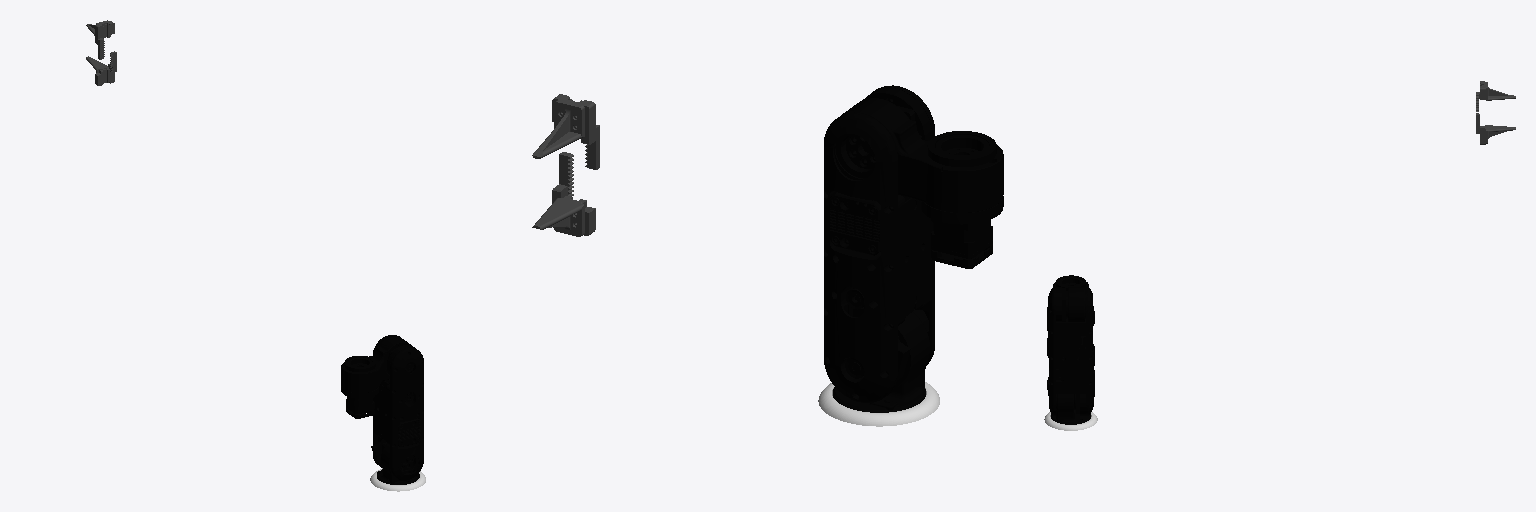
robot.urdf — DummyRobot_URDF:
<?xml version="1.0" encoding="utf-8"?>
<!-- This URDF was automatically created by SolidWorks to URDF Exporter! Originally created by Stephen Brawner (brawner@gmail.com) 
     Commit Version: 1.6.0-4-g7f85cfe  Build Version: 1.6.7995.38578
     For more information, please see http://wiki.ros.org/sw_urdf_exporter -->
<robot
  name="DummyRobot_URDF">
  <link
    name="base_rail">
    <inertial>
      <origin
        xyz="0.000954394507431187 0.0883259974982675 0.017353072875547"
        rpy="0 0 0" />
      <mass
        value="9.27513247711793" />
      <inertia
        ixx="0.532473402098459"
        ixy="2.65792617577544E-05"
        ixz="1.73766355284922E-05"
        iyy="0.222153120187208"
        iyz="-8.48208120946669E-05"
        izz="0.753386105704525" />
    </inertial>
    <visual>
      <origin
        xyz="0 0 0"
        rpy="0 0 0" />
      <geometry>
        <mesh
          filename="package://DummyRobot_URDF/meshes/base_rail.STL" />
      </geometry>
      <material
        name="">
        <color
          rgba="0.309803921568627 0.309803921568627 0.309803921568627 1" />
      </material>
    </visual>
    <collision>
      <origin
        xyz="0 0 0"
        rpy="0 0 0" />
      <geometry>
        <mesh
          filename="package://DummyRobot_URDF/meshes/base_rail.STL" />
      </geometry>
    </collision>
  </link>
  <link name="base_rail_control">
    <visual>
      <origin xyz="0 0 0" rpy="0 0 0" />
      <geometry>
        <mesh filename="package://DummyRobot_URDF/meshes/base_rail_control.stl" />
      </geometry>
      <material name="base_rail_control_black">
        <color rgba="0.035 0.035 0.035 1" />
      </material>
    </visual>
    <collision>
      <origin xyz="0 0 0" rpy="0 0 0" />
      <geometry>
        <mesh filename="package://DummyRobot_URDF/meshes/base_rail_control.stl" />
      </geometry>
    </collision>
  </link>
  <joint name="base_rail_control_fixed" type="fixed">
    <origin xyz="0 0 0" rpy="0 0 0" />
    <parent link="base_rail" />
    <child link="base_rail_control" />
  </joint>
  <link
    name="base_link">
    <inertial>
      <origin
        xyz="0.000708235447330798 -2.24602712531424E-05 0.117713749195766"
        rpy="0 0 0" />
      <mass
        value="0.65459824877057" />
      <inertia
        ixx="0.000759472268353183"
        ixy="1.10425148416772E-07"
        ixz="5.64335341466214E-06"
        iyy="0.000862319359012217"
        iyz="-1.58352135519818E-07"
        izz="0.00124453066123206" />
    </inertial>
    <visual>
      <origin
        xyz="0 0 0"
        rpy="0 0 0" />
      <geometry>
        <mesh
          filename="package://DummyRobot_URDF/meshes/base_link.STL" />
      </geometry>
      <material
        name="">
        <color
          rgba="0.035 0.035 0.035 1" />
      </material>
    </visual>
    <visual name="rgb_diffuser">
      <origin xyz="0 0 0" rpy="0 0 0" />
      <geometry>
        <mesh filename="package://DummyRobot_URDF/meshes/light.stl" />
      </geometry>
      <material name="rgb_diffuser">
        <color rgba="0.85 0.85 0.85 1" />
      </material>
    </visual>
    <collision>
      <origin
        xyz="0 0 0"
        rpy="0 0 0" />
      <geometry>
        <mesh
          filename="package://DummyRobot_URDF/meshes/base_link.STL" />
      </geometry>
    </collision>
  </link>
  <joint
    name="rail"
    type="prismatic">
    <origin
      xyz="0 0 0"
      rpy="0 0 0" />
    <parent
      link="base_rail" />
    <child
      link="base_link" />
    <axis
      xyz="0 1 0" />
    <limit
      lower="-0.25"
      upper="0.25"
      effort="1"
      velocity="0.15" />
  </joint>
  <link
    name="Link1">
    <inertial>
      <origin
        xyz="-4.52970087441886E-05 -0.00697327217228019 0.206536027444802"
        rpy="0 0 0" />
      <mass
        value="0.0946687102122455" />
      <inertia
        ixx="4.70639582676801E-05"
        ixy="1.49739688110612E-07"
        ixz="-1.30476173125909E-07"
        iyy="5.68599465780417E-05"
        iyz="6.02210124272629E-06"
        izz="4.47170577317032E-05" />
    </inertial>
    <visual>
      <origin
        xyz="0 0 0"
        rpy="0 0 0" />
      <geometry>
        <mesh
          filename="package://DummyRobot_URDF/meshes/Link1.STL" />
      </geometry>
      <material
        name="">
        <color
          rgba="0.035 0.035 0.035 1" />
      </material>
    </visual>
    <collision>
      <origin
        xyz="0 0 0"
        rpy="0 0 0" />
      <geometry>
        <mesh
          filename="package://DummyRobot_URDF/meshes/Link1.STL" />
      </geometry>
    </collision>
  </link>
  <joint
    name="Joint1"
    type="revolute">
    <origin
      xyz="0 0 0"
      rpy="0 0 0" />
    <parent
      link="base_link" />
    <child
      link="Link1" />
    <axis
      xyz="0 0 1" />
    <limit
      lower="-3.054"
      upper="3.054"
      effort="1"
      velocity="3.77" />
  </joint>
  <link
    name="Link2">
    <inertial>
      <origin
        xyz="-0.000132576164157668 0.0849019895639085 -6.00847789632959E-05"
        rpy="0 0 0" />
      <mass
        value="0.506306400909599" />
      <inertia
        ixx="0.000922756183403637"
        ixy="-2.26952791753534E-06"
        ixz="-5.95657040380579E-07"
        iyy="0.000194651479219989"
        iyz="-0.000100550178608044"
        izz="0.000922735176790623" />
    </inertial>
    <visual>
      <origin
        xyz="0 0 0"
        rpy="0 0 0" />
      <geometry>
        <mesh
          filename="package://DummyRobot_URDF/meshes/Link2.STL" />
      </geometry>
      <material
        name="">
        <color
          rgba="0.035 0.035 0.035 1" />
      </material>
    </visual>
    <collision>
      <origin
        xyz="0 0 0"
        rpy="0 0 0" />
      <geometry>
        <mesh
          filename="package://DummyRobot_URDF/meshes/Link2.STL" />
      </geometry>
    </collision>
  </link>
  <joint
    name="Joint2"
    type="revolute">
    <origin
      xyz="0 0 0.2273"
      rpy="1.5708 0 0" />
    <parent
      link="Link1" />
    <child
      link="Link2" />
    <axis
      xyz="0.00091448 0 -1" />
    <limit
      lower="-1.31"
      upper="1.57"
      effort="1"
      velocity="3.77" />
  </joint>
  <link
    name="Link3">
    <inertial>
      <origin
        xyz="-0.0528751915069359 -0.0198271426281751 -0.00354745159487404"
        rpy="0 0 0" />
      <mass
        value="0.220125000076318" />
      <inertia
        ixx="7.55620692499258E-05"
        ixy="-1.48375748072967E-05"
        ixz="2.25486962418045E-05"
        iyy="0.000194018144589819"
        iyz="3.06026449020234E-06"
        izz="0.000185511077216167" />
    </inertial>
    <visual>
      <origin
        xyz="0 0 0"
        rpy="0 0 0" />
      <geometry>
        <mesh
          filename="package://DummyRobot_URDF/meshes/Link3.STL" />
      </geometry>
      <material
        name="">
        <color
          rgba="0.035 0.035 0.035 1" />
      </material>
    </visual>
    <collision>
      <origin
        xyz="0 0 0"
        rpy="0 0 0" />
      <geometry>
        <mesh
          filename="package://DummyRobot_URDF/meshes/Link3.STL" />
      </geometry>
    </collision>
  </link>
  <joint
    name="Joint3"
    type="revolute">
    <origin
      xyz="0 0.17 0"
      rpy="0 0.00091448 0" />
    <parent
      link="Link2" />
    <child
      link="Link3" />
    <axis
      xyz="0 0 -1" />
    <limit
      lower="0"
      upper="3.1415"
      effort="1"
      velocity="3.77" />
  </joint>
  <link
    name="Link4">
    <inertial>
      <origin
        xyz="-0.000702734016891166 -0.000420765509108568 0.0691081220429574"
        rpy="0 0 0" />
      <mass
        value="0.251701641847598" />
      <inertia
        ixx="0.000223426617632548"
        ixy="-3.59664166522469E-07"
        ixz="-1.08517545540069E-06"
        iyy="0.000256762346502792"
        iyz="-5.4617781808846E-06"
        izz="8.93309911833448E-05" />
    </inertial>
    <visual>
      <origin
        xyz="0 0 0"
        rpy="0 0 0" />
      <geometry>
        <mesh
          filename="package://DummyRobot_URDF/meshes/Link4.STL" />
      </geometry>
      <material
        name="">
        <color
          rgba="0.035 0.035 0.035 1" />
      </material>
    </visual>
    <collision>
      <origin
        xyz="0 0 0"
        rpy="0 0 0" />
      <geometry>
        <mesh
          filename="package://DummyRobot_URDF/meshes/Link4.STL" />
      </geometry>
    </collision>
  </link>
  <joint
    name="Joint4"
    type="revolute">
    <origin
      xyz="-0.0695 0 -6.3556E-05"
      rpy="-1.5708 -0.00091448 0" />
    <parent
      link="Link3" />
    <child
      link="Link4" />
    <axis
      xyz="0 0 -1" />
    <limit
      lower="-4.71"
      upper="4.712"
      effort="1"
      velocity="3.77" />
  </joint>
  <link
    name="Link5">
    <inertial>
      <origin
        xyz="-0.000188362677181503 0.0589146133072262 0.000520254140716522"
        rpy="0 0 0" />
      <mass
        value="0.150552055729831" />
      <inertia
        ixx="0.000103482989750562"
        ixy="3.16631764155193E-07"
        ixz="-3.58006463122162E-07"
        iyy="6.33963535806473E-05"
        iyz="1.35463503426992E-05"
        izz="9.31629160364633E-05" />
    </inertial>
    <visual>
      <origin
        xyz="0 0 0"
        rpy="0 0 0" />
      <geometry>
        <mesh
          filename="package://DummyRobot_URDF/meshes/Link5.STL" />
      </geometry>
      <material
        name="">
        <color
          rgba="0.035 0.035 0.035 1" />
      </material>
    </visual>
    <collision>
      <origin
        xyz="0 0 0"
        rpy="0 0 0" />
      <geometry>
        <mesh
          filename="package://DummyRobot_URDF/meshes/Link5.STL" />
      </geometry>
    </collision>
  </link>
  <joint
    name="Joint5"
    type="revolute">
    <origin
      xyz="0 0 0.117"
      rpy="1.5708 0 0.00091448" />
    <parent
      link="Link4" />
    <child
      link="Link5" />
    <axis
      xyz="0 0 1" />
    <limit
      lower="-1.75"
      upper="1.75"
      effort="1"
      velocity="3.77" />
  </joint>
  <link
    name="Link6">
    <inertial>
      <origin
        xyz="-4.93652578903714E-05 -0.000105888603423667 0.0299031187850284"
        rpy="0 0 0" />
      <mass
        value="0.0568821591491116" />
      <inertia
        ixx="1.43073600733196E-05"
        ixy="1.82984157362015E-08"
        ixz="-1.67303479696035E-08"
        iyy="8.9938615507639E-06"
        iyz="-1.07316010356497E-08"
        izz="1.67477848282105E-05" />
    </inertial>
    <visual>
      <origin
        xyz="0 0 0"
        rpy="0 0 0" />
      <geometry>
        <mesh
          filename="package://DummyRobot_URDF/meshes/Link6.STL" />
      </geometry>
      <material
        name="">
        <color
          rgba="0.309803921568627 0.309803921568627 0.309803921568627 1" />
      </material>
    </visual>
    <collision>
      <origin
        xyz="0 0 0"
        rpy="0 0 0" />
      <geometry>
        <mesh
          filename="package://DummyRobot_URDF/meshes/Link6.STL" />
      </geometry>
    </collision>
  </link>
  <joint
    name="Joint6"
    type="revolute">
    <origin
      xyz="0 0.113 0"
      rpy="-1.5708 -0.00091448 0" />
    <parent
      link="Link5" />
    <child
      link="Link6" />
    <axis
      xyz="0 0 1" />
    <limit
      lower="-3.141"
      upper="3.141"
      effort="1"
      velocity="6.28" />
  </joint>
  <link
    name="Hand_R">
    <inertial>
      <origin
        xyz="-0.0020333878466581 -0.00746188142480653 -0.0332521641028611"
        rpy="0 0 0" />
      <mass
        value="0.0133380377299132" />
      <inertia
        ixx="2.59403463581116E-06"
        ixy="9.83324567924701E-08"
        ixz="3.67521428129718E-07"
        iyy="2.27258165188795E-06"
        iyz="2.75209308148097E-08"
        izz="1.90810063238107E-06" />
    </inertial>
    <visual>
      <origin
        xyz="0 0 0"
        rpy="0 0 0" />
      <geometry>
        <mesh
          filename="package://DummyRobot_URDF/meshes/Hand_R.STL" />
      </geometry>
      <material
        name="">
        <color
          rgba="0.309803921568627 0.309803921568627 0.309803921568627 1" />
      </material>
    </visual>
    <collision>
      <origin
        xyz="0 0 0"
        rpy="0 0 0" />
      <geometry>
        <mesh
          filename="package://DummyRobot_URDF/meshes/Hand_R.STL" />
      </geometry>
    </collision>
  </link>
  <joint
    name="Hand_R"
    type="prismatic">
    <origin
      xyz="0 0 0.058"
      rpy="-1.5708 0 0.00091448" />
    <parent
      link="Link6" />
    <child
      link="Hand_R" />
    <axis
      xyz="0 0 1" />
    <limit
      lower="0"
      upper="0.026"
      effort="1"
      velocity="0.088357" />
  </joint>
  <link
    name="Hand_L">
    <inertial>
      <origin
        xyz="0.00201277238435156 -0.00746187356477168 0.0331252389364411"
        rpy="0 0 0" />
      <mass
        value="0.0133380257046588" />
      <inertia
        ixx="2.59403441169238E-06"
        ixy="-9.83318874935182E-08"
        ixz="3.67522139361931E-07"
        iyy="2.27258205537984E-06"
        iyz="-2.75208619742237E-08"
        izz="1.90810096342182E-06" />
    </inertial>
    <visual>
      <origin
        xyz="0 0 0"
        rpy="0 0 0" />
      <geometry>
        <mesh
          filename="package://DummyRobot_URDF/meshes/Hand_L.STL" />
      </geometry>
      <material
        name="">
        <color
          rgba="0.309803921568627 0.309803921568627 0.309803921568627 1" />
      </material>
    </visual>
    <collision>
      <origin
        xyz="0 0 0"
        rpy="0 0 0" />
      <geometry>
        <mesh
          filename="package://DummyRobot_URDF/meshes/Hand_L.STL" />
      </geometry>
    </collision>
  </link>
  <joint
    name="Hand_L"
    type="prismatic">
    <origin
      xyz="0 0 0.058"
      rpy="-1.5708 0 0.00091448" />
    <parent
      link="Link6" />
    <child
      link="Hand_L" />
    <axis
      xyz="0 0 -1" />
    <limit
      lower="0"
      upper="0.026"
      effort="1"
      velocity="0.088357" />
  </joint>
</robot>

--- What the picture shows (computed from the rendered views, not written in the file) ---
The picture shows the robot from 3 angles, left to right: view 1: azimuth 30°, elevation 25°; view 2: azimuth 150°, elevation 25°; view 3: azimuth 270°, elevation 25°; orthographic projection.
Robot: DummyRobot_URDF — 11 links, 10 joints (6 revolute, 3 prismatic, 1 fixed); root link base_rail; default pose: every joint at zero.
Links seen in each view (by area): view 1: Link2, Link3, Link1, Hand_L; view 2: Link2, Link3, Link1, Hand_R, Hand_L, base_link; view 3: Link2, Link3, Link1.
Link boxes in pixels (<box>): Link2: <box>371,335,423,480</box>; Link3: <box>341,336,411,418</box>; Link1: <box>377,444,419,484</box>; Hand_L: <box>86,51,116,85</box>; Link2: <box>824,85,934,402</box>; Link3: <box>835,98,1003,268</box>; Link1: <box>833,312,929,412</box>; Hand_R: <box>532,94,599,169</box>; Hand_L: <box>532,152,595,236</box>; base_link: <box>818,382,939,426</box>; Link2: <box>1047,287,1094,415</box>; Link3: <box>1053,275,1088,321</box>; Link1: <box>1051,394,1090,424</box>.
Size in the robot's own frame: 0.1994 by 0.7845 by 0.5601 metres.
6 mesh visuals loaded from 12 distinct referenced files (6 binary STL); not drawn: 6 (reference not matched to a file when rendering).
